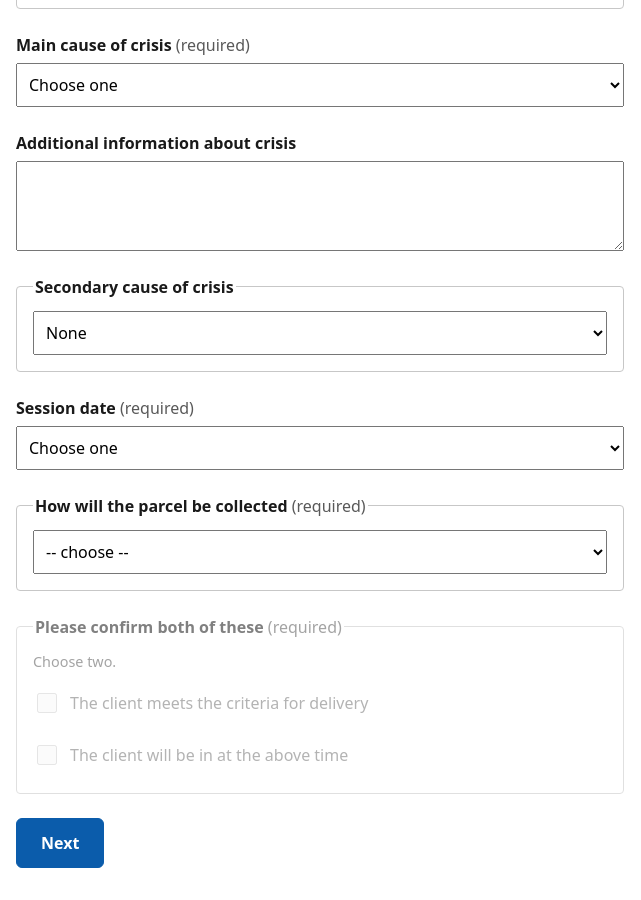
Test: the public referral form › refuses to move on while something mandatory on this page is blank
This screenshot has width=641, height=900.
(page scrolled)
Click the button "Next". click: (60, 842)
box: [16,818,104,868]
(page scrolled)
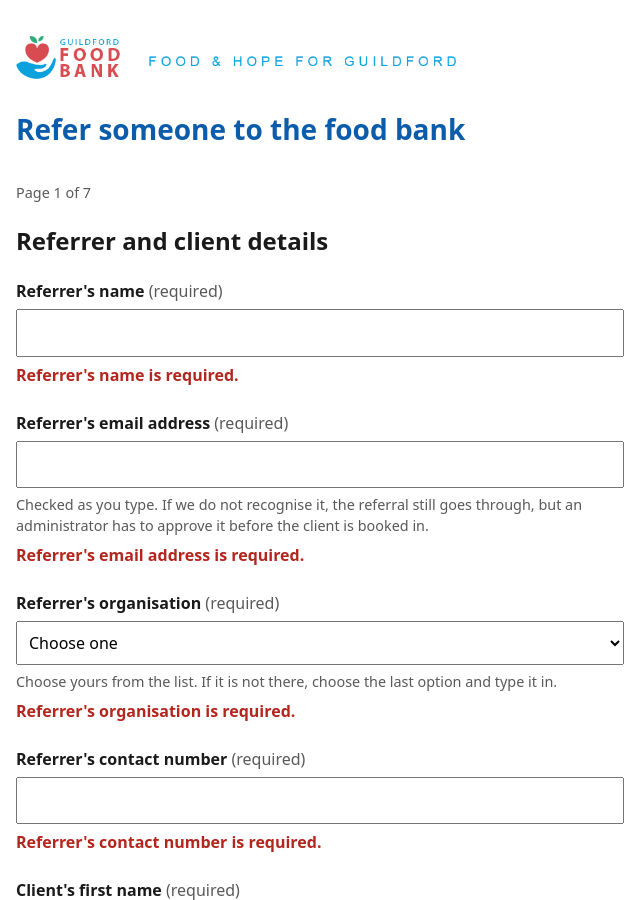
Expected: the text "Page 1 of 7" is shown, [16,183,91,202]
Expected: the text "Referrer's name is required." is shown, [16,364,239,386]
